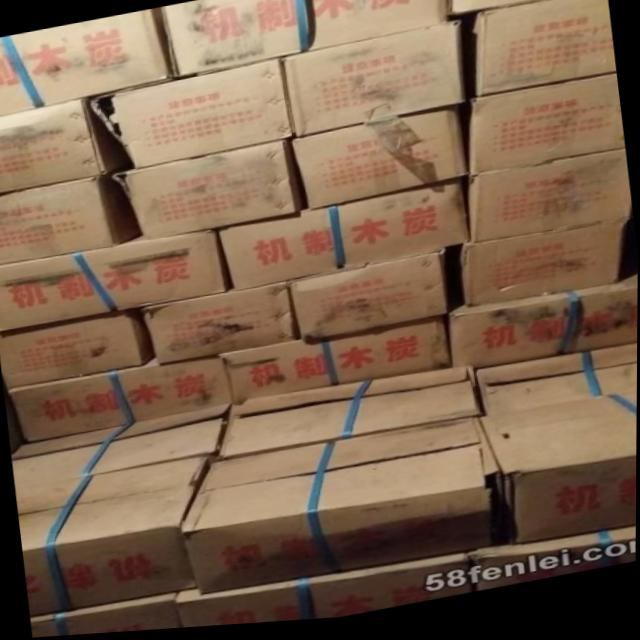box: (181, 422, 500, 598), (15, 459, 211, 617), (220, 183, 469, 295), (214, 372, 482, 463), (481, 397, 637, 552), (0, 232, 231, 332), (89, 61, 294, 170), (447, 263, 638, 376), (281, 26, 465, 142), (178, 558, 470, 630), (221, 320, 450, 408), (8, 358, 231, 443), (113, 143, 306, 241), (0, 10, 172, 115), (12, 405, 232, 487), (292, 112, 467, 215), (465, 156, 632, 248), (468, 83, 625, 180), (459, 227, 629, 314), (290, 254, 448, 346), (475, 0, 616, 103), (142, 284, 294, 367), (0, 176, 143, 263), (157, 0, 310, 81), (0, 99, 127, 193), (0, 312, 156, 387), (477, 350, 638, 420), (467, 533, 637, 596), (305, 0, 449, 55), (31, 595, 182, 638), (450, 0, 580, 20)
